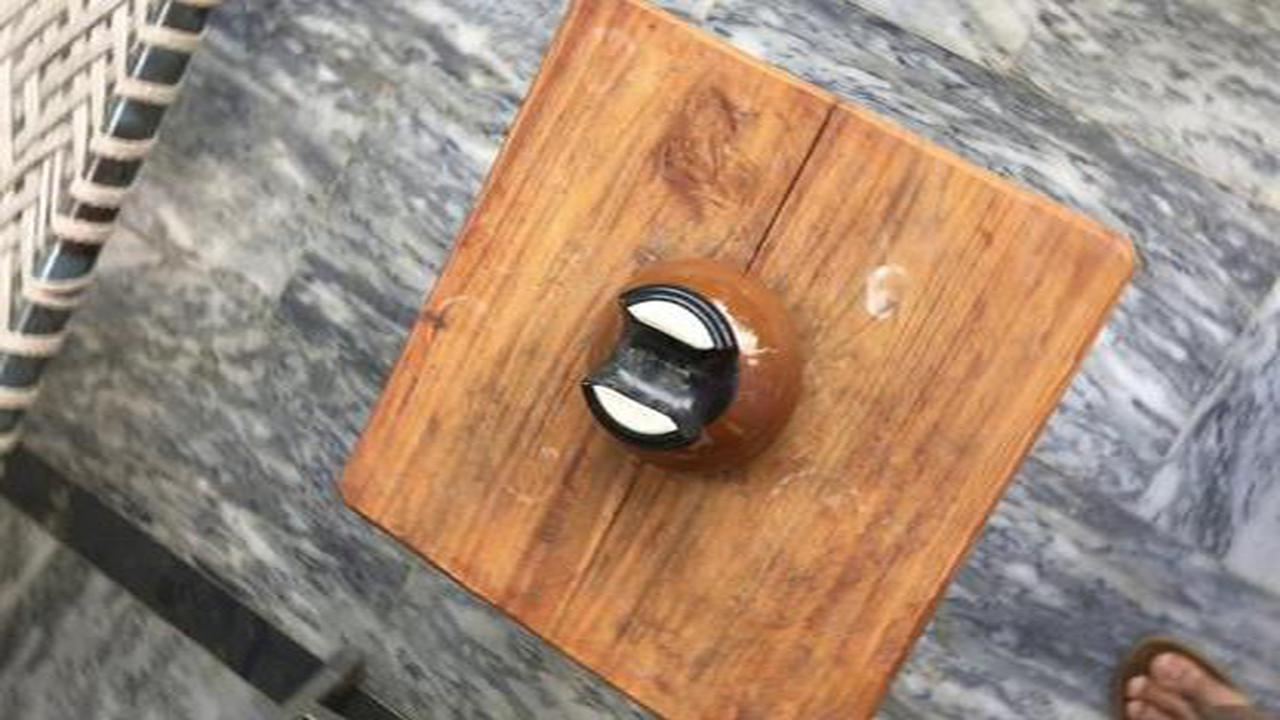insulator_pin: (548, 248, 841, 490)
